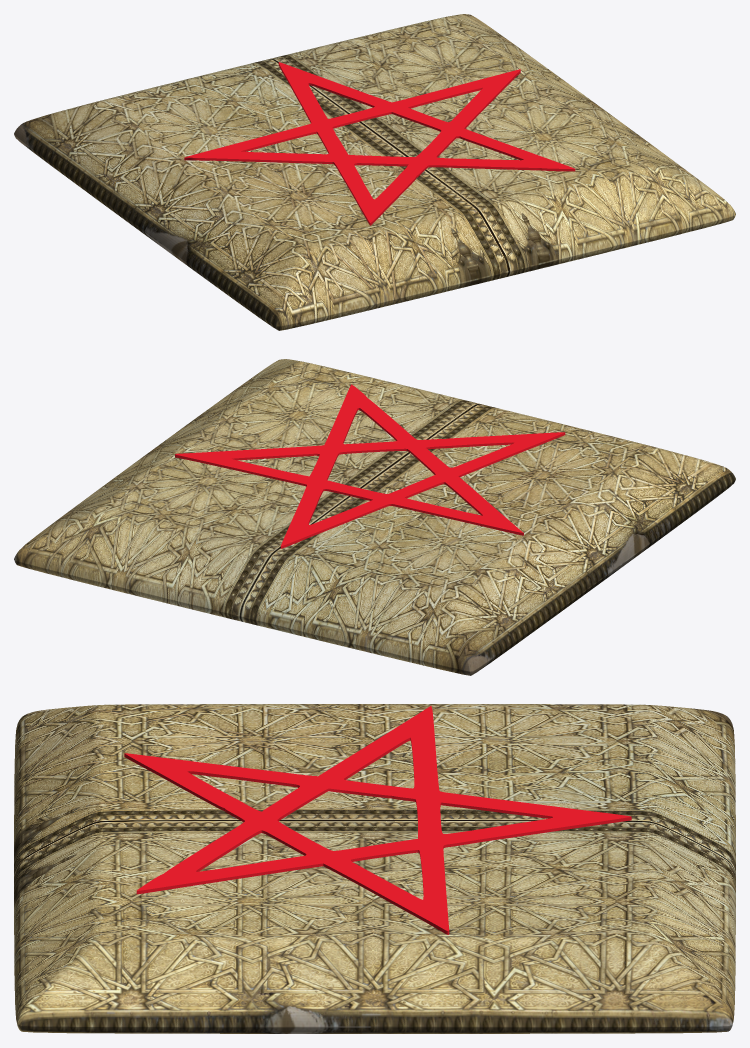
The model's file is LosaRunas.FBX.
3 renders of one model, top to bottom at view 1: azimuth 30°, elevation 25°; view 2: azimuth 150°, elevation 25°; view 3: azimuth 270°, elevation 25°, orthographic. The views are drawn at different scales.
Parts seen in each view (by area): view 1: Cube, Curve.001; view 2: Cube, Curve.001; view 3: Cube, Curve.001.
Part boxes in pixels (<box>): Cube: <box>14,14,735,330</box>; Curve.001: <box>184,62,575,225</box>; Cube: <box>14,359,735,675</box>; Curve.001: <box>175,384,565,548</box>; Cube: <box>14,704,735,1033</box>; Curve.001: <box>124,706,631,934</box>.
Bounding box in the file's own units: 78.69 × 8.39 × 78.69.
